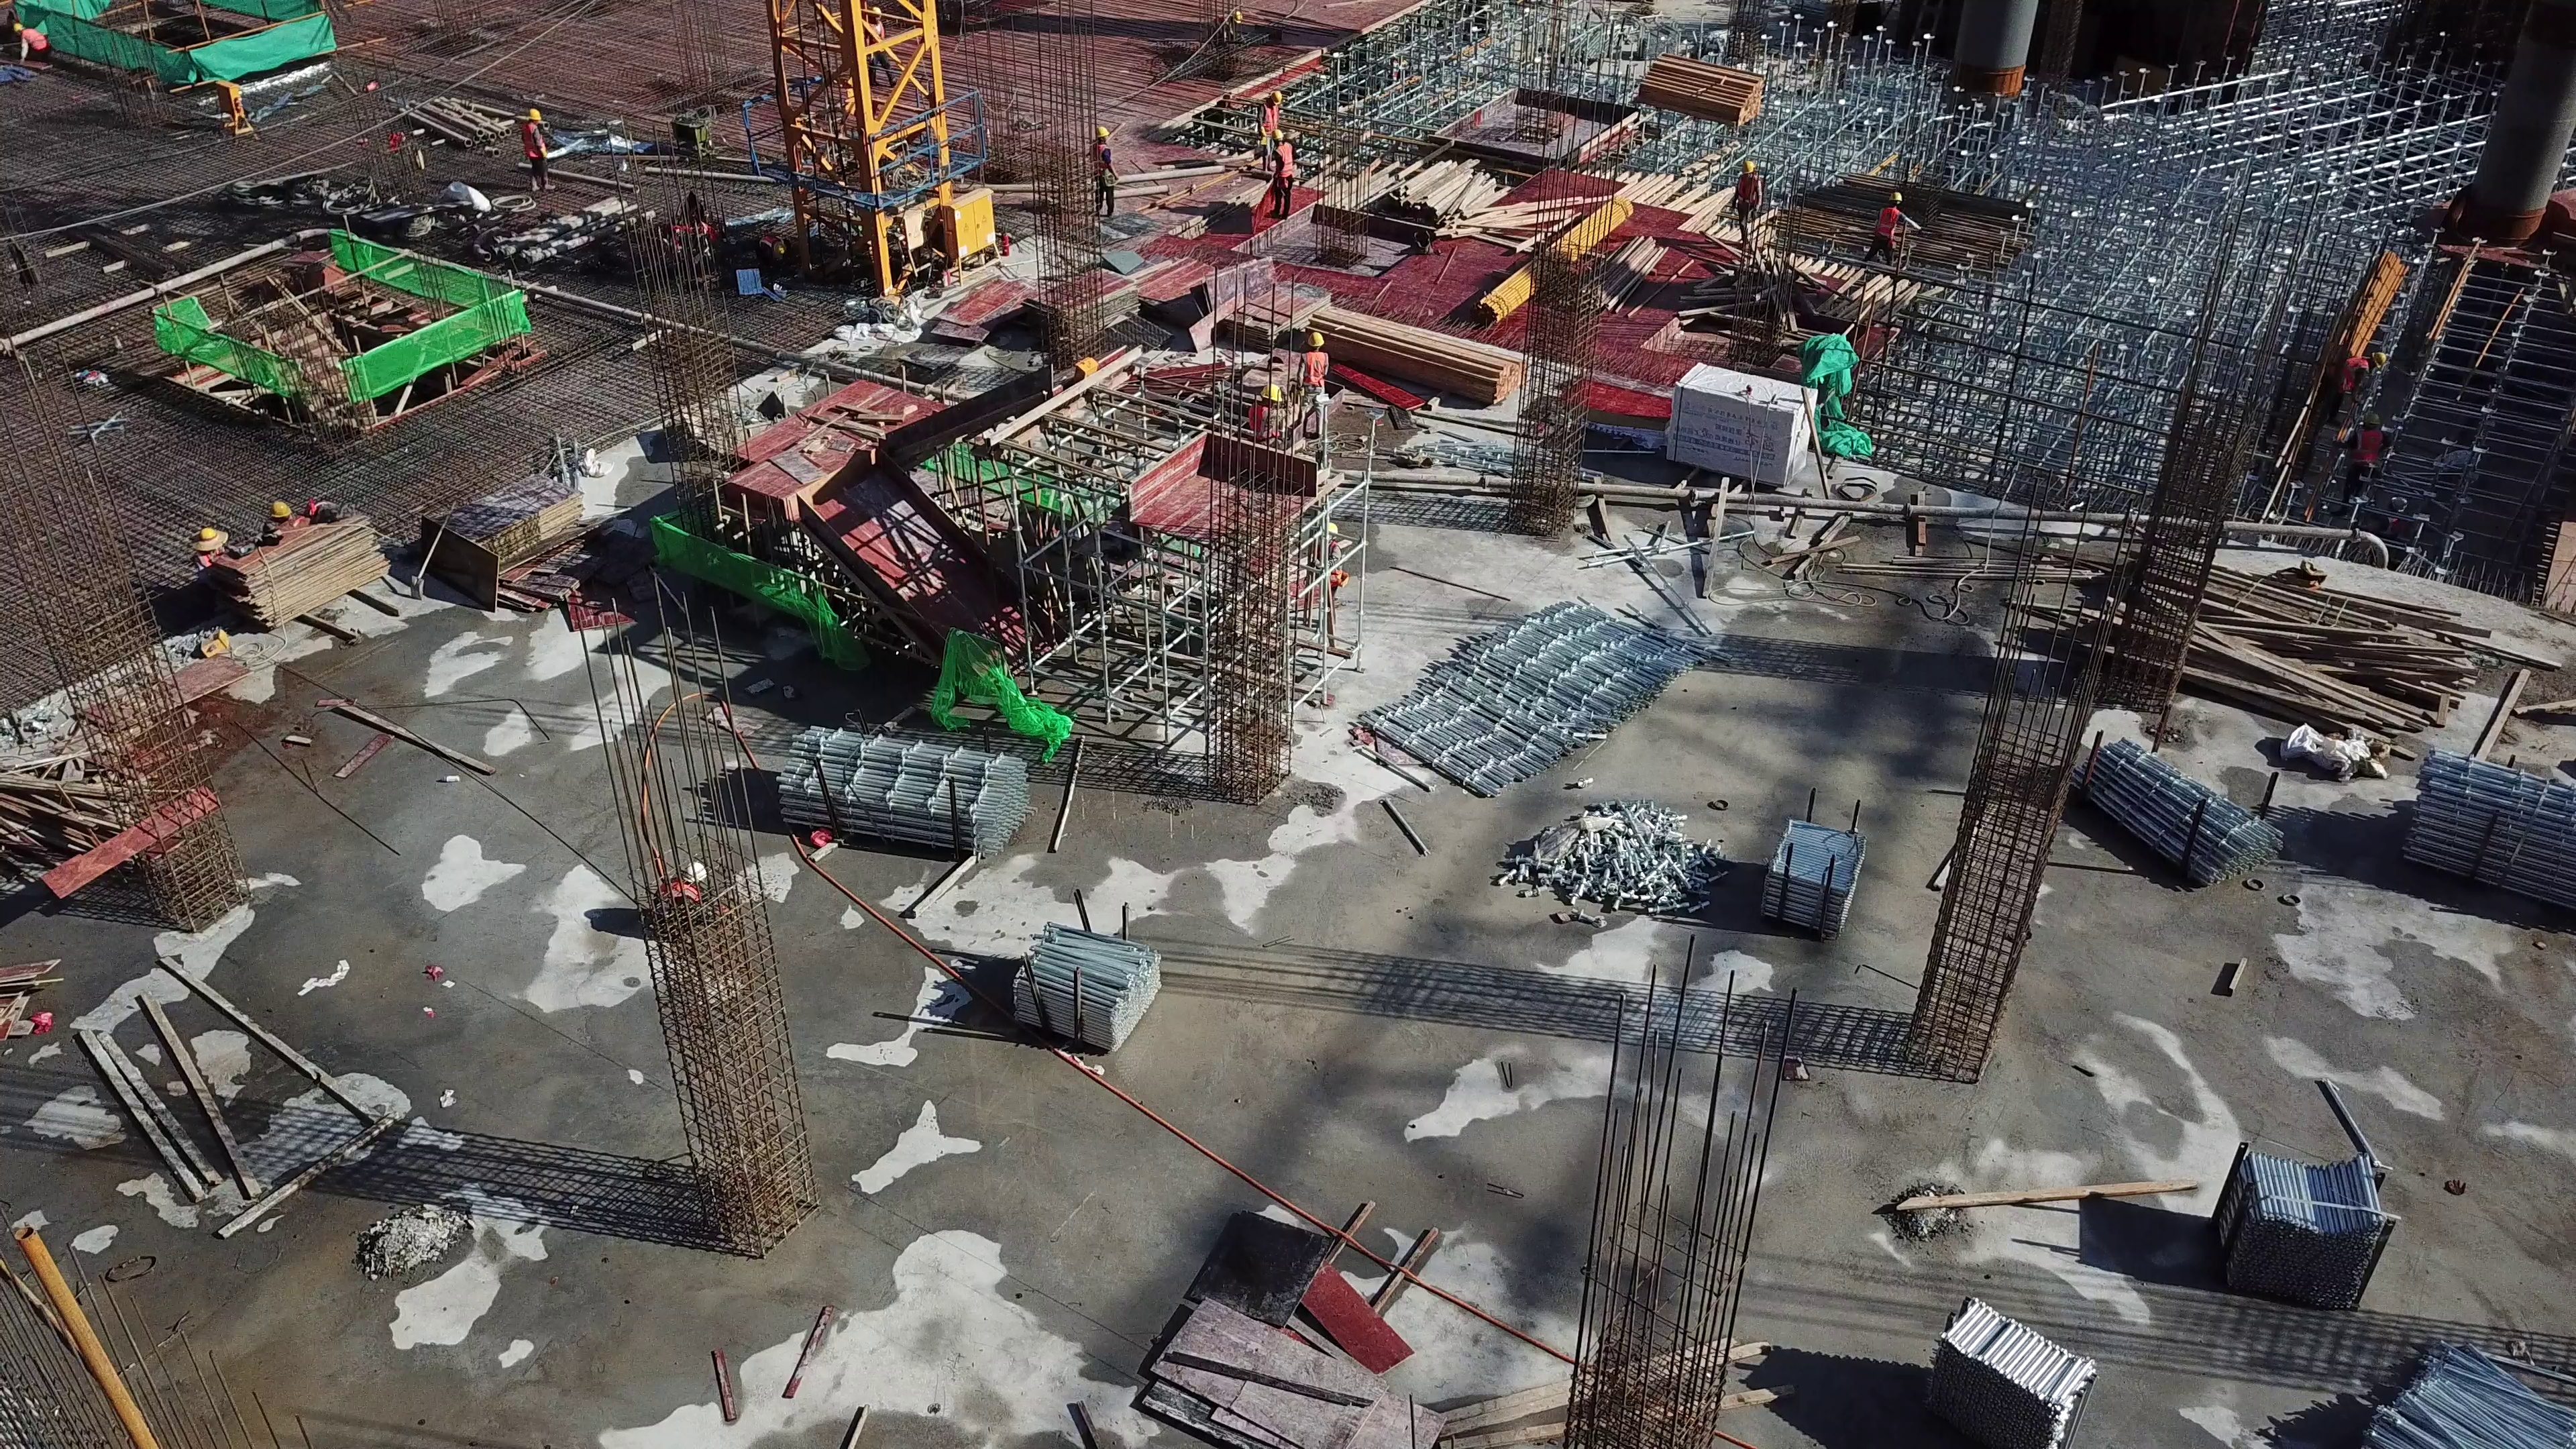board: (201, 502, 394, 637), (425, 470, 589, 608)
person: (1082, 123, 1132, 219), (507, 100, 554, 199), (1875, 188, 1919, 266), (1297, 327, 1338, 409), (1735, 158, 1779, 231), (1271, 126, 1301, 229), (1260, 85, 1286, 162)
scaffold: (1350, 584, 1715, 792), (1502, 788, 1892, 955), (782, 721, 1026, 859), (2082, 727, 2281, 888), (2392, 756, 2576, 926), (2324, 1337, 2576, 1449), (1933, 1299, 2107, 1449), (2234, 1150, 2389, 1305), (998, 917, 1158, 1060)
wood: (2015, 541, 2487, 742), (1330, 158, 1566, 252), (1307, 307, 1517, 412)
